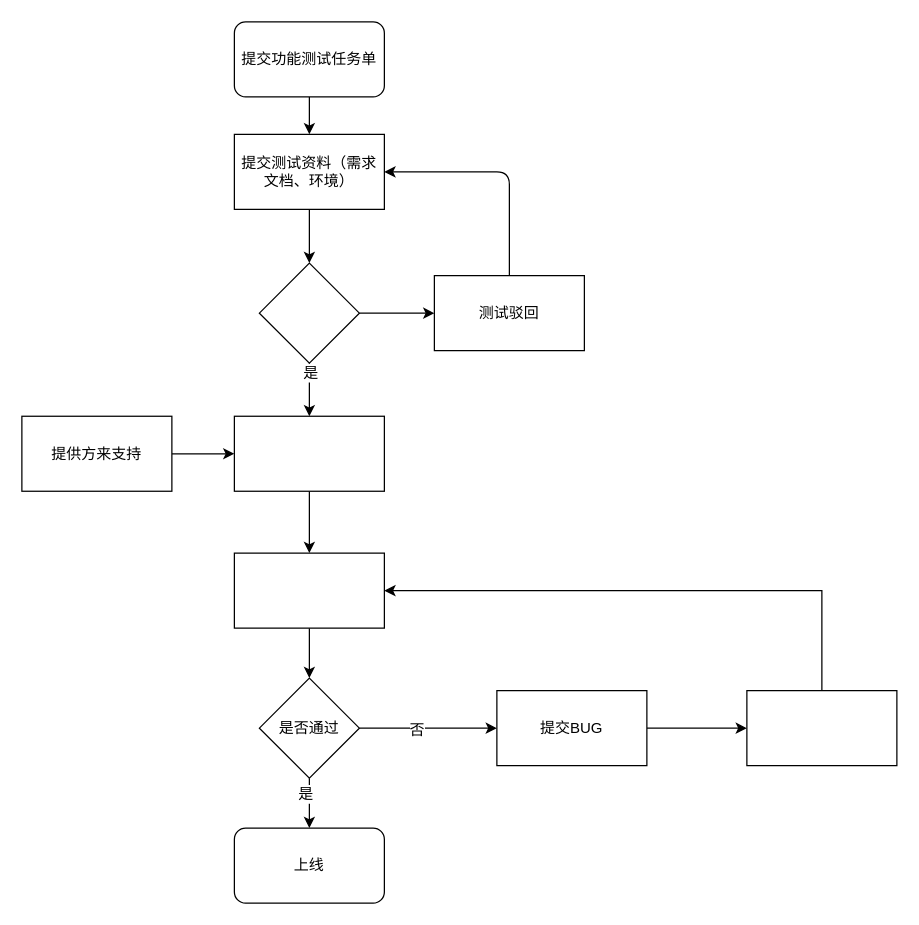
The diagram is 919 pixels wide and 925 high, and some of its shapes have lost their labels. The shapes that lost their labels are listed below. From the top down, each one's centre as x and y in pixels, then its label:
At (x=308, y=312): "梳理测试资料、文档是否齐全".
At (x=308, y=453): "理解需求".
At (x=308, y=590): "执行测试".
At (x=821, y=727): "开发修改".
